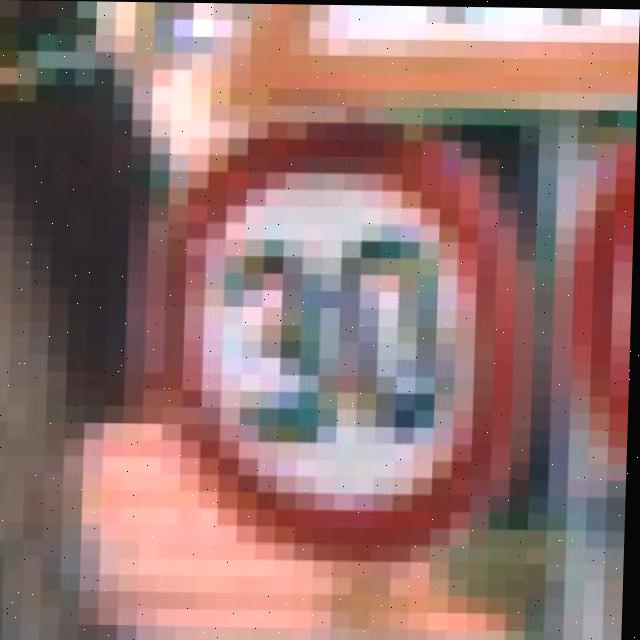Speed limit 30: (76, 2, 639, 640)
